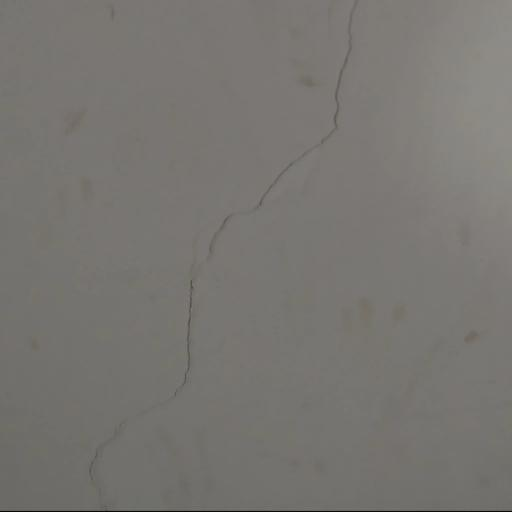minor_crack: (84, 0, 364, 512)
